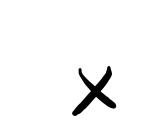mult: (72, 69, 115, 116)
